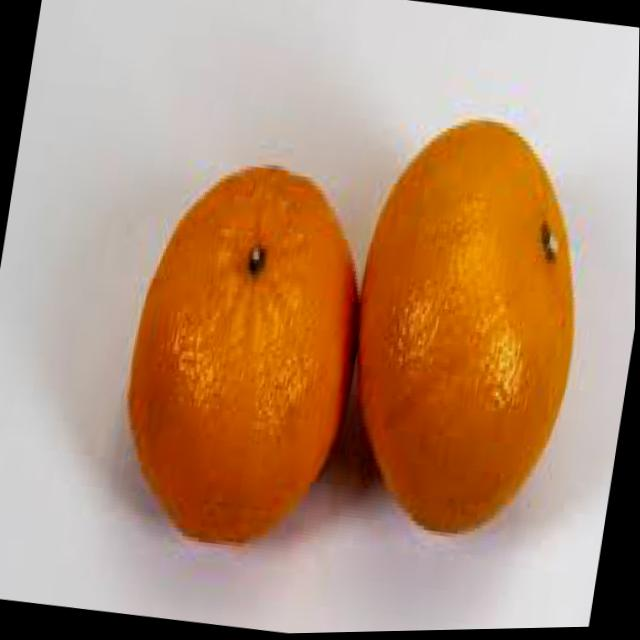orange: (327, 103, 606, 553), (106, 153, 381, 562)
